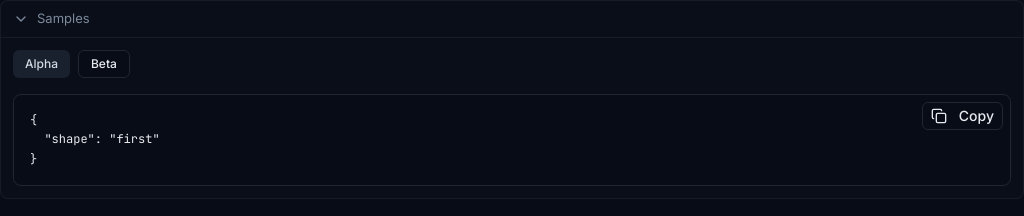
Test: JsonSample › switches between variants with a row of chips
Expected: the text "{ \"shape\": \"first\" }" is shown, 30,112 -> 160,166
What coordinates should you click on to do the following:
click the button "Beta"
I would click on:
 (104, 64)
Its box is 78,50 -> 130,78.
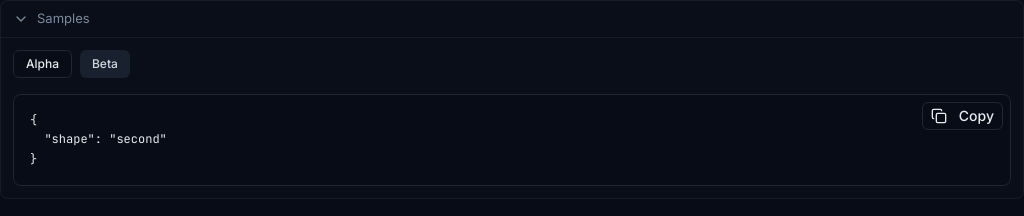
Expected: the text "{ \"shape\": \"second\" }" is shown, 30,112 -> 167,166
